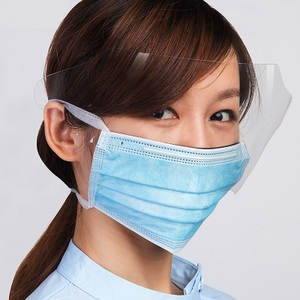face_mask: (86, 33, 244, 238)
